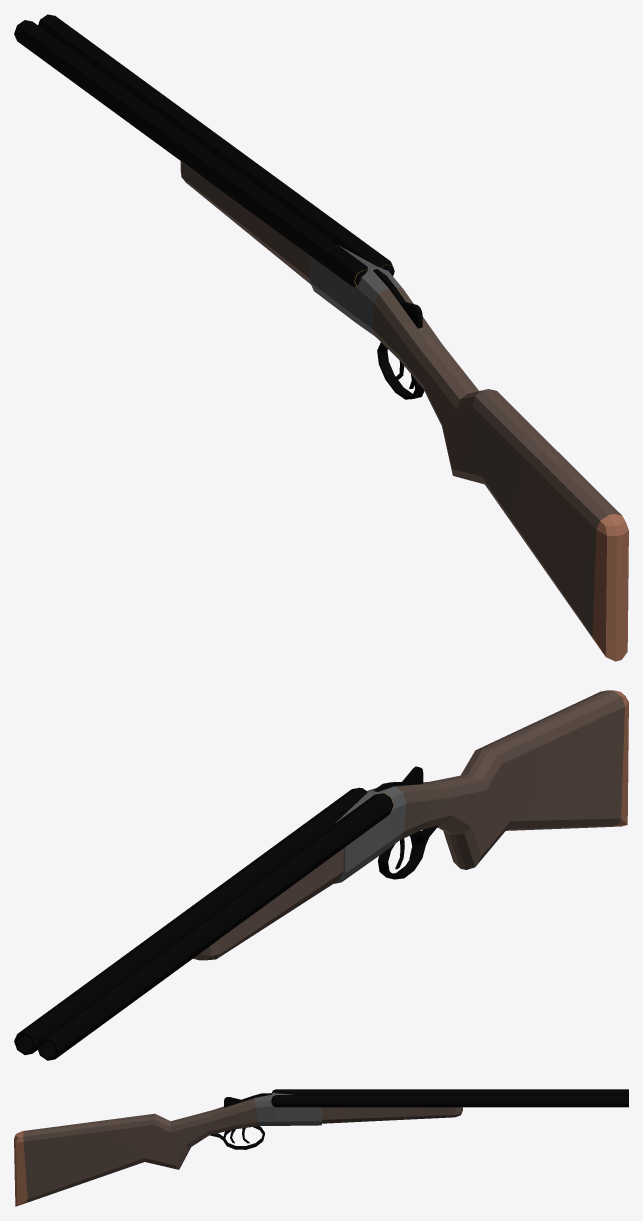
File: doubleBarrel.glb
3 renders of one model, top to bottom at view 1: azimuth 30°, elevation 25°; view 2: azimuth 150°, elevation 25°; view 3: azimuth 270°, elevation 25°, orthographic. The views are drawn at different scales.
Parts seen in each view (by area): view 1: stock, barrels; view 2: stock, barrels; view 3: stock, barrels, lever.
Part boxes in pixels (box(x1,y1,x2,y2)): stock: box(310, 246, 628, 661); barrels: box(14, 14, 394, 286); stock: box(333, 690, 628, 883); barrels: box(14, 787, 393, 1060); stock: box(14, 1092, 321, 1206); barrels: box(271, 1089, 628, 1123); lever: box(224, 1093, 271, 1107).
Bounding box in the file's own units: 0.0502 × 0.233 × 1.14.
Materials: 3 (1 with a texture image).
